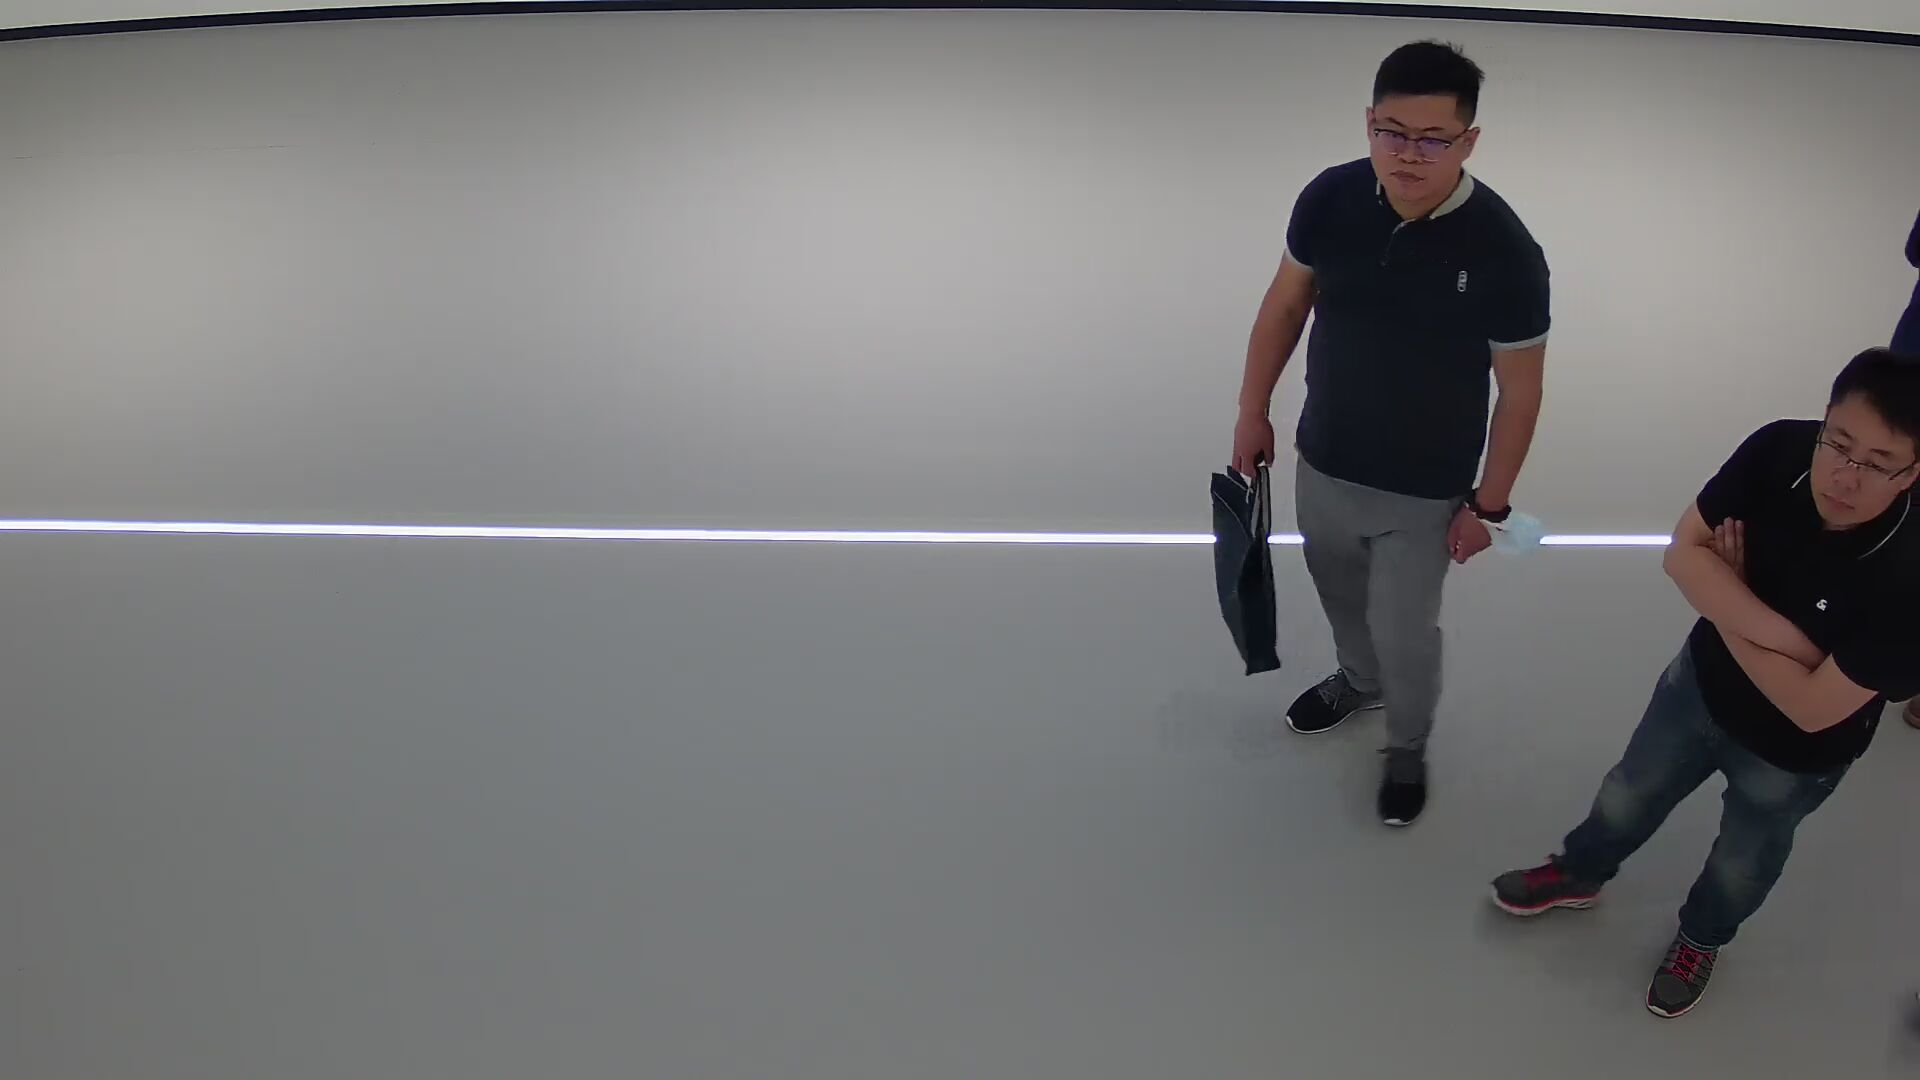normal: (1470, 342, 1920, 1023), (1197, 26, 1555, 849)
